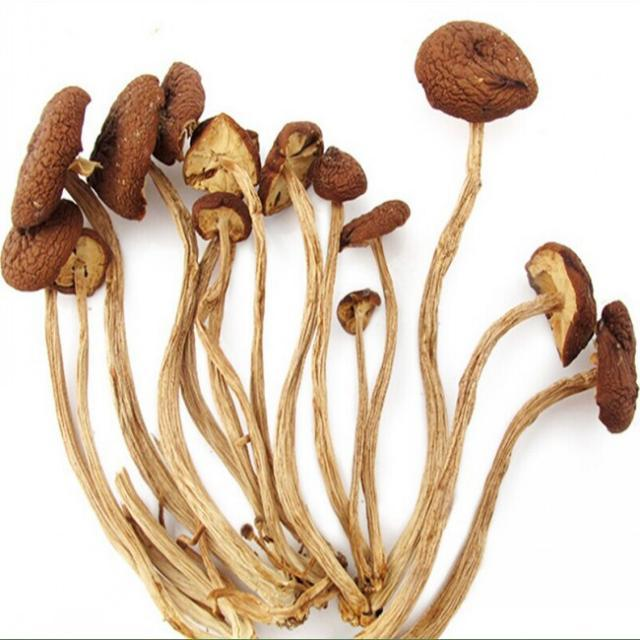Agrocybe aegerita: (13, 25, 640, 640)
